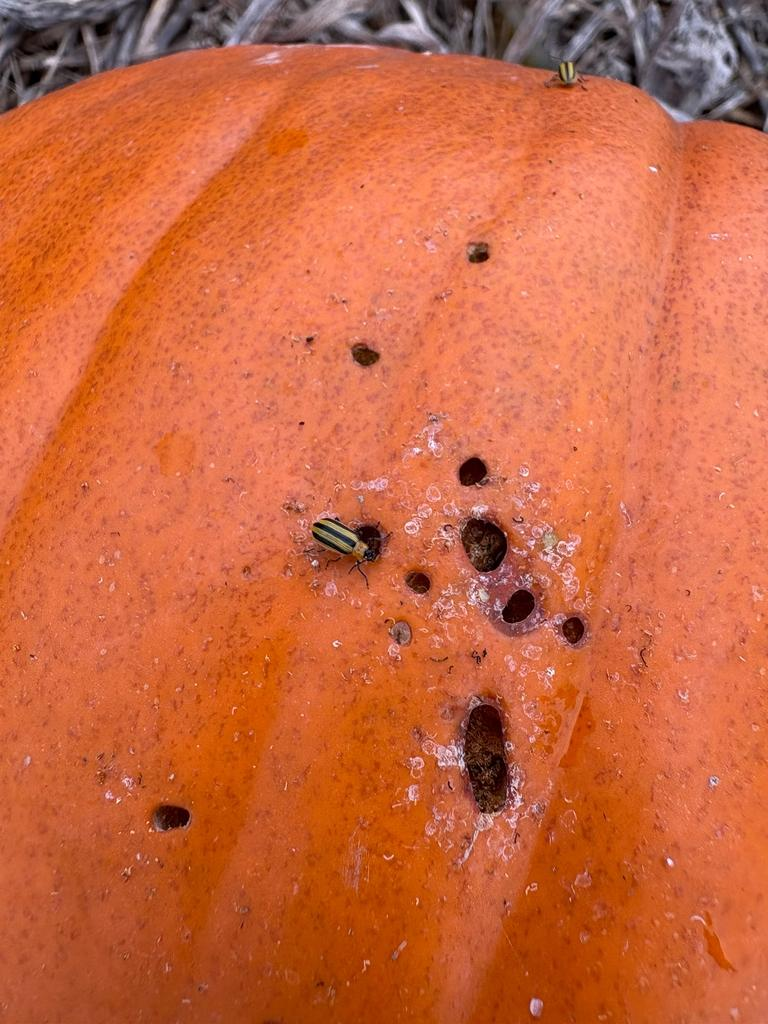potato_beetle: (287, 491, 411, 599)
